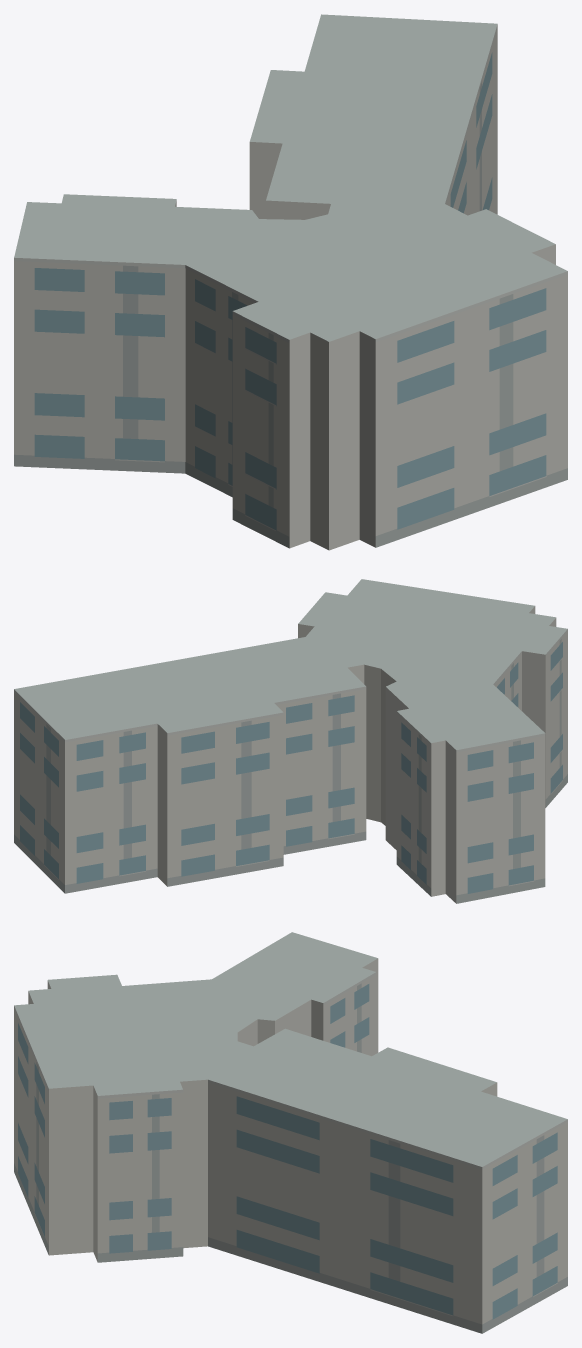
The model's file is residential-8a9f6463-fed5-426c-a4f1-1c102673815a.glb.
3 views of the same model, one above another, from view 1: azimuth 30°, elevation 25°; view 2: azimuth 150°, elevation 25°; view 3: azimuth 270°, elevation 25° (orthographic). The views are drawn at different scales.
Parts seen in each view (by area): view 1: residential-8a9f6463-fed5-426c-a4f1-1c102673815a.tmp; view 2: residential-8a9f6463-fed5-426c-a4f1-1c102673815a.tmp; view 3: residential-8a9f6463-fed5-426c-a4f1-1c102673815a.tmp.
Boxes of the visible parts, x1=… form: residential-8a9f6463-fed5-426c-a4f1-1c102673815a.tmp: x1=14, y1=14, x2=567, y2=550; residential-8a9f6463-fed5-426c-a4f1-1c102673815a.tmp: x1=14, y1=579, x2=567, y2=903; residential-8a9f6463-fed5-426c-a4f1-1c102673815a.tmp: x1=14, y1=932, x2=567, y2=1333.
Size of the model in its own units: 46.11 by 15.25 by 45.92.
